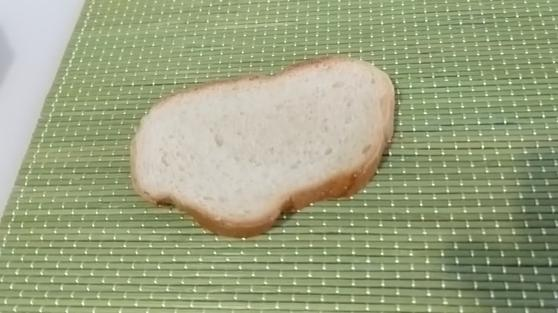white_bread: (128, 56, 397, 236)
